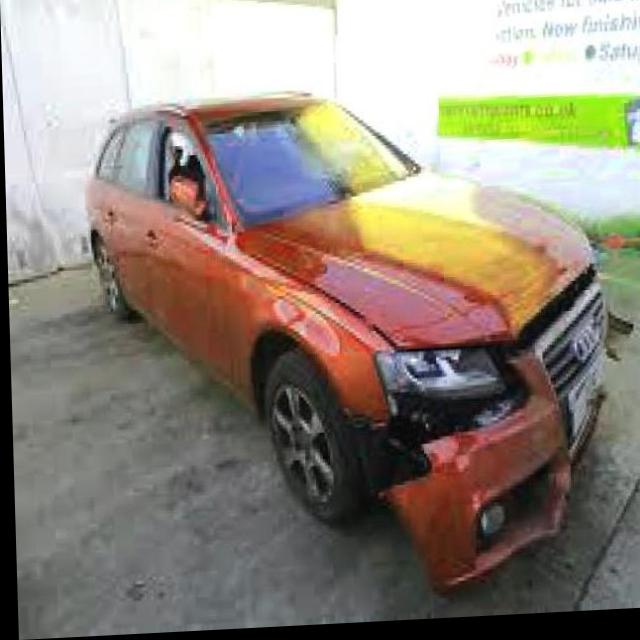Car-Damage: (343, 267, 606, 594)
